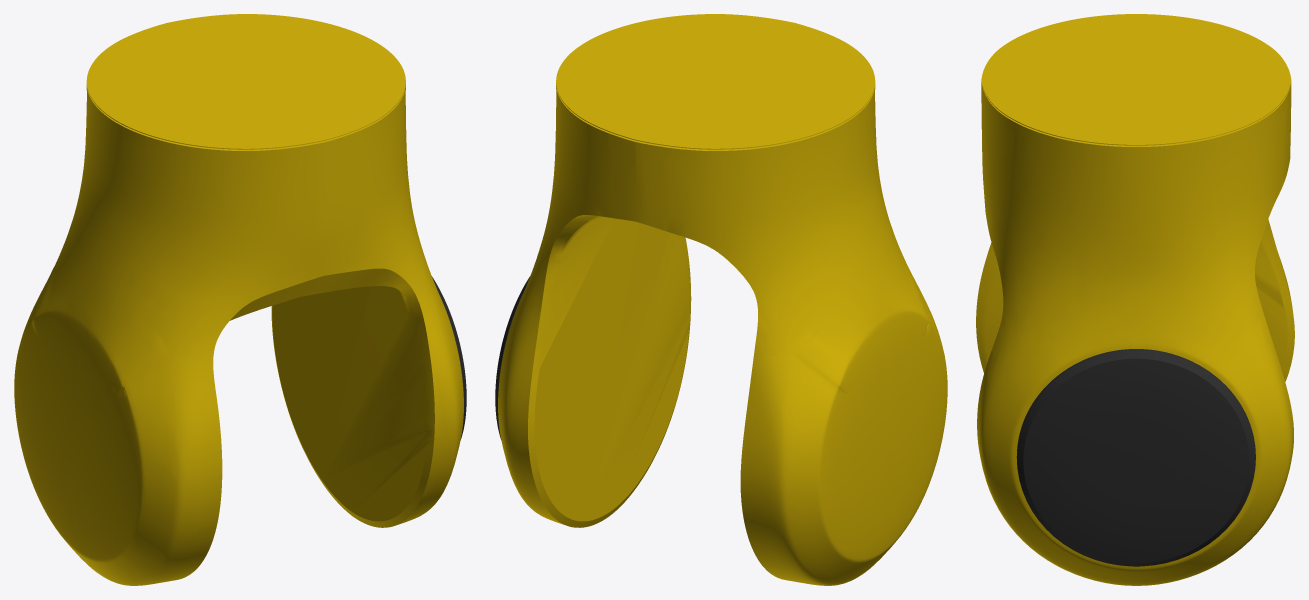
The model's file is shoulder_roll_l_j2_link.glb.
3 views of the same model, side by side, from view 1: azimuth 30°, elevation 25°; view 2: azimuth 150°, elevation 25°; view 3: azimuth 270°, elevation 25° (orthographic). The views are drawn at different scales.
Parts seen in each view (by area): view 1: Mesh_0.022; view 2: Mesh_0.022; view 3: Mesh_0.022.
Boxes of the visible parts, <box> form: Mesh_0.022: <box>14,14,466,585</box>; Mesh_0.022: <box>495,14,947,585</box>; Mesh_0.022: <box>976,14,1294,585</box>.
Size of the model in its own units: 0.1184 by 0.1533 by 0.0988.
